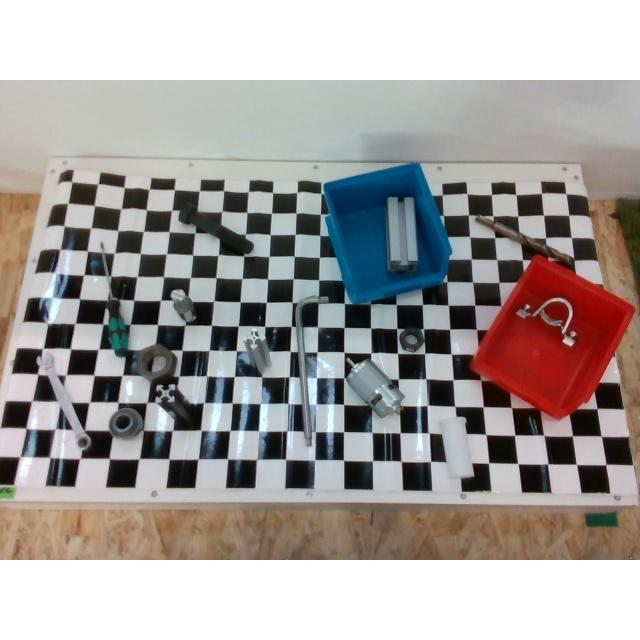AllenKey: (292, 295, 328, 445)
Axis2: (170, 288, 194, 324)
Bearing2: (109, 408, 143, 438)
Drill: (476, 214, 574, 270)
F20_20_B: (155, 384, 191, 424)
F20_20_G: (243, 331, 271, 375)
Housing: (516, 298, 576, 347)
M20: (398, 328, 424, 352)
M20_100: (178, 206, 254, 254)
M30: (137, 344, 177, 384)
Motor2: (346, 357, 402, 417)
S40_40_G: (386, 196, 418, 272)
Screwdriver: (100, 242, 128, 356)
Spacer: (439, 418, 473, 478)
Wrench: (38, 354, 90, 451)
container_box_blue: (323, 163, 451, 303)
container_box_red: (471, 255, 635, 418)
